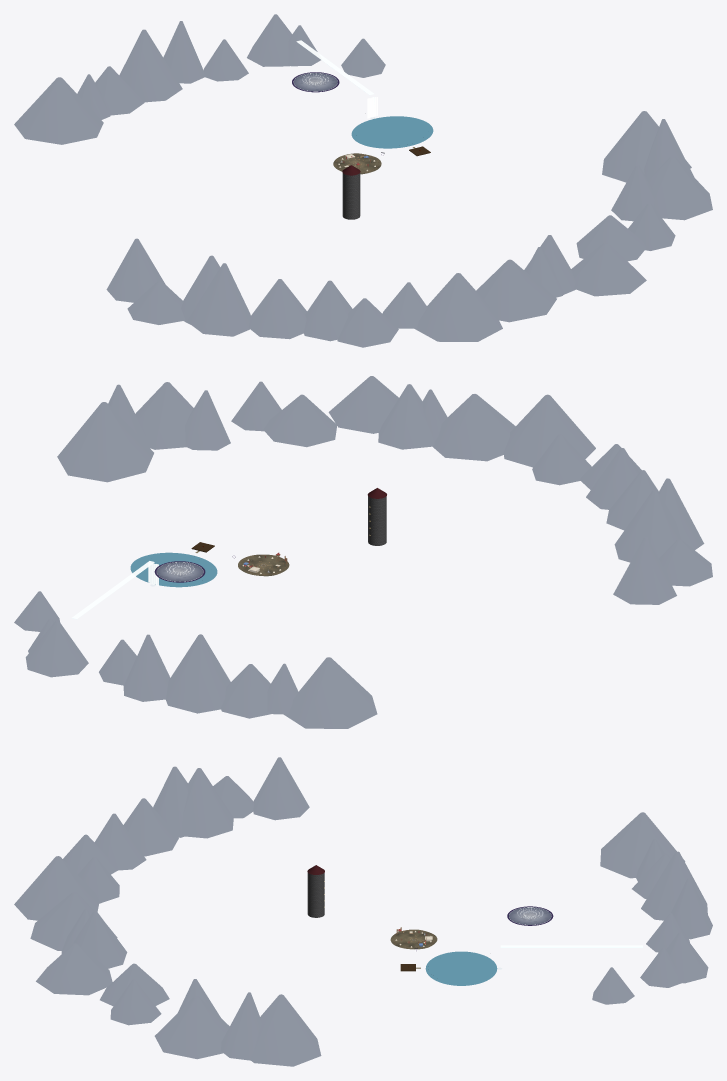
File: world.glb
3 views of the same model, one above another, from view 1: azimuth 30°, elevation 25°; view 2: azimuth 150°, elevation 25°; view 3: azimuth 270°, elevation 25° (orthographic). The views are drawn at different scales.
Parts seen in each view (by area): view 1: mountainRing, lakeWater, towerPropBody, raidFloor, hubGround; view 2: mountainRing, lakeWater, towerPropBody, hubGround, raidFloor; view 3: mountainRing, lakeWater, towerPropBody, hubGround, raidFloor.
Boxes of the visible parts, <box> form: mountainRing: <box>14,14,712,347</box>; lakeWater: <box>351,116,433,148</box>; towerPropBody: <box>342,173,360,219</box>; raidFloor: <box>294,73,337,91</box>; hubGround: <box>333,153,381,174</box>; mountainRing: <box>14,376,712,728</box>; lakeWater: <box>130,552,217,587</box>; towerPropBody: <box>368,496,386,545</box>; hubGround: <box>238,554,289,576</box>; raidFloor: <box>156,562,203,581</box>; mountainRing: <box>14,757,712,1066</box>; lakeWater: <box>425,951,497,985</box>; towerPropBody: <box>307,873,324,917</box>; hubGround: <box>390,929,437,949</box>; raidFloor: <box>509,907,551,924</box>.
Bounding box in the file's own units: 914 × 90.91 × 987.
40 materials, 4 textured.
